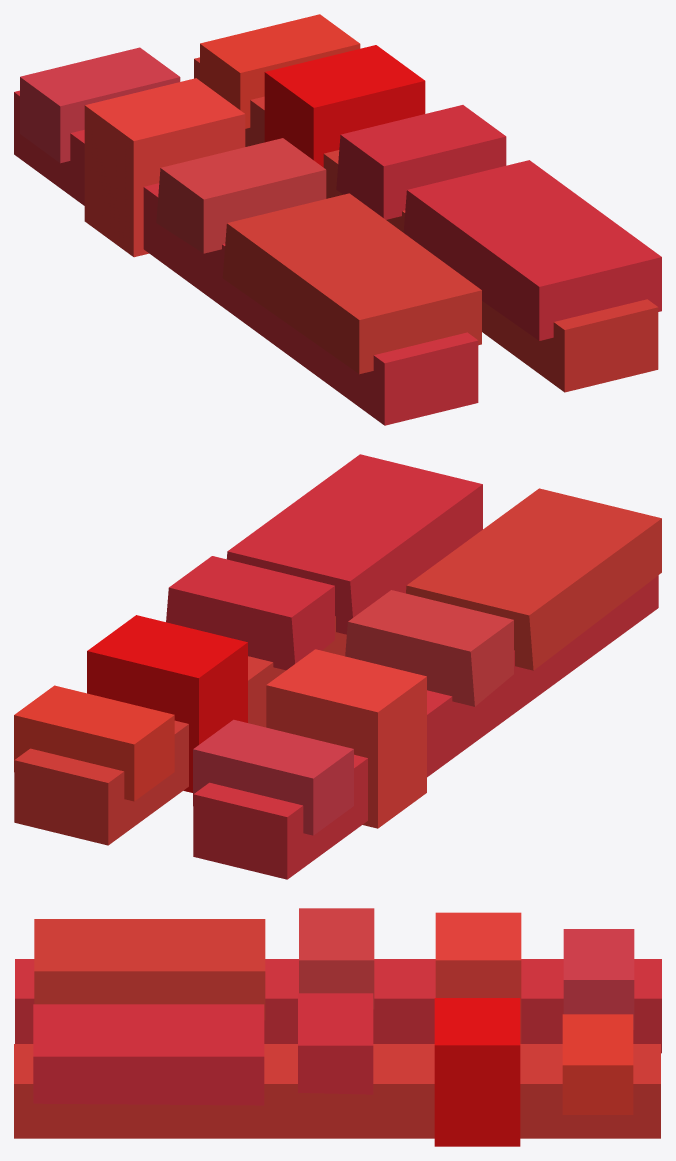
File: Device1.glb
3 renders of one model, top to bottom at view 1: azimuth 30°, elevation 25°; view 2: azimuth 150°, elevation 25°; view 3: azimuth 270°, elevation 25°, orthographic. The views are drawn at different scales.
Visible parts, largest first — view 1: Cube.008, Cube.003, Cube.005, Cube.007, Cube.002, Cube.009, Cube, Cube.004, Cube.006, Cube.001; view 2: Cube.008, Cube.003, Cube.005, Cube.007, Cube.002, Cube.009, Cube, Cube.004, Cube.006, Cube.001; view 3: Cube, Cube.003, Cube.008, Cube.005, Cube.002, Cube.004, Cube.007, Cube.001, Cube.009, Cube.006.
Part boxes in pixels (x1,y1,x2,y2): Cube.008: [222, 193, 481, 374]; Cube.003: [403, 160, 661, 340]; Cube.005: [14, 90, 478, 425]; Cube.007: [84, 78, 245, 257]; Cube.002: [264, 45, 425, 167]; Cube.009: [156, 138, 326, 253]; Cube: [194, 57, 658, 392]; Cube.004: [336, 105, 506, 219]; Cube.006: [20, 47, 180, 163]; Cube.001: [200, 14, 360, 128]; Cube.008: [406, 488, 661, 670]; Cube.003: [226, 454, 482, 634]; Cube.005: [193, 575, 658, 879]; Cube.007: [266, 649, 426, 828]; Cube.002: [87, 615, 247, 792]; Cube.009: [345, 590, 513, 706]; Cube: [14, 616, 346, 845]; Cube.004: [166, 556, 334, 670]; Cube.006: [193, 719, 353, 835]; Cube.001: [14, 685, 174, 801]; Cube: [14, 1044, 660, 1138]; Cube.003: [33, 1004, 264, 1105]; Cube.008: [34, 919, 265, 1020]; Cube.005: [15, 959, 661, 1053]; Cube.002: [434, 998, 520, 1146]; Cube.004: [298, 993, 373, 1094]; Cube.007: [435, 912, 521, 1043]; Cube.001: [562, 1014, 633, 1114]; Cube.009: [299, 908, 374, 1009]; Cube.006: [563, 929, 634, 1029].
Bounding box in the file's own units: 2.88 × 1.11 × 5.88.
